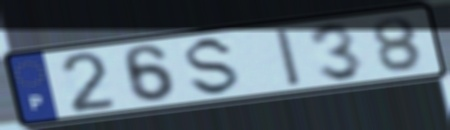2: (58, 50, 119, 115)
3: (307, 19, 366, 84)
6: (121, 43, 179, 105)
8: (369, 15, 425, 74)
I: (272, 26, 306, 89)
S: (183, 34, 244, 98)
